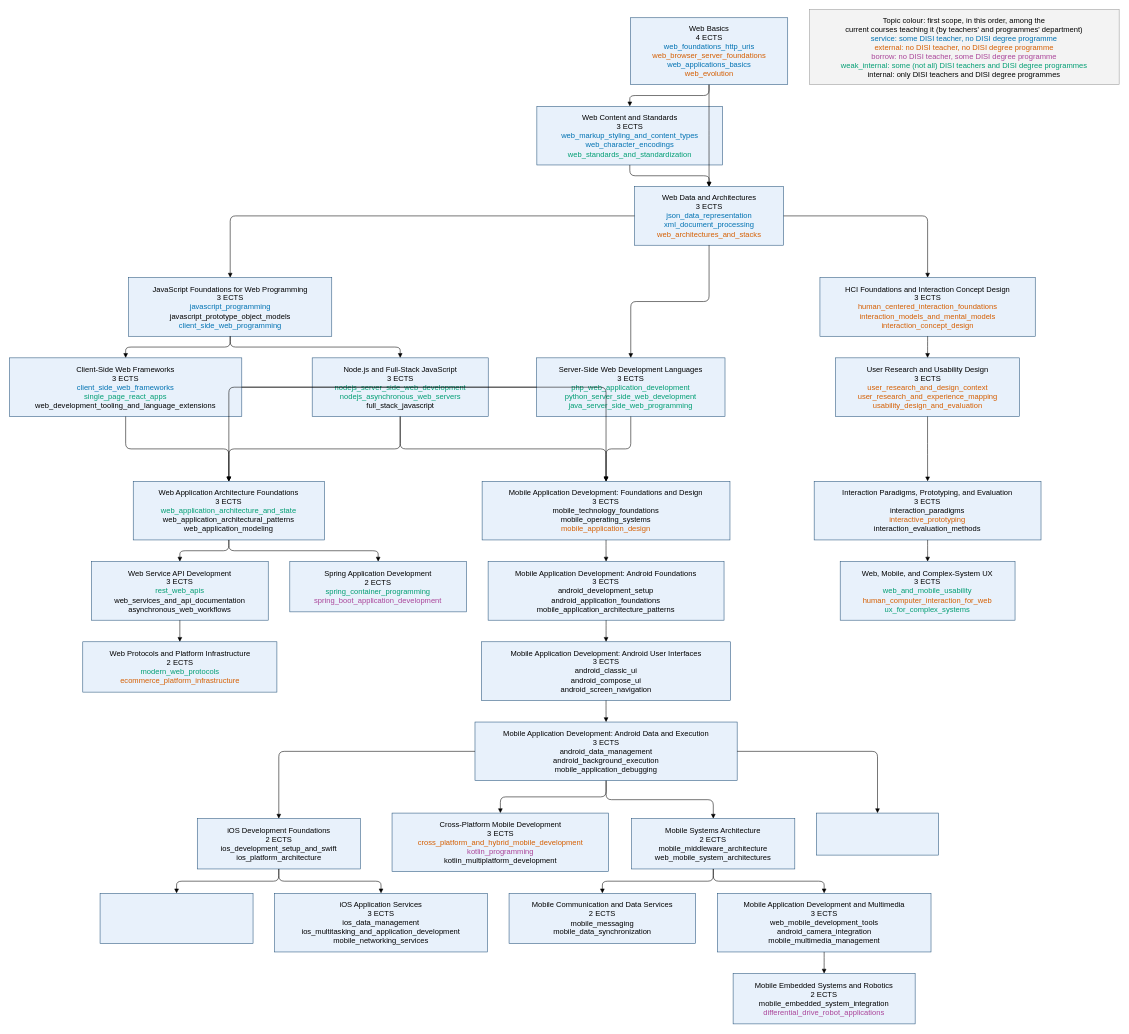
Some shapes in this 1129 by 1034 pixel diagram are drawn without their labels. The box of each missing label's shape, as (x1, y1, x2, y2) in pixels:
iOS User Interface Development 2 ECTS ios_uikit_interaction ios_swiftui: (100, 893, 253, 944)
Open RAN Architectures 1 ECTS open_ran_architectures: (816, 813, 939, 855)
